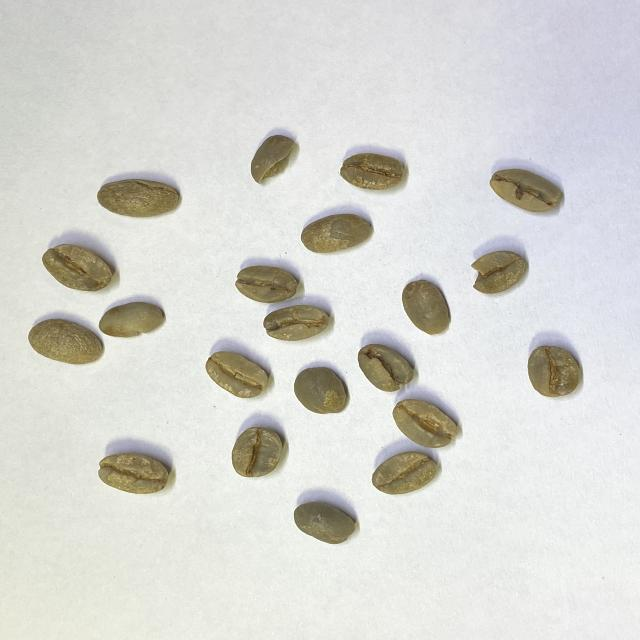bad: (488, 167, 564, 214), (392, 396, 460, 448), (355, 342, 417, 392), (468, 252, 530, 294), (263, 304, 331, 342), (98, 302, 168, 338)
good: (40, 242, 116, 294), (27, 318, 102, 366), (98, 178, 180, 220), (204, 350, 268, 400), (370, 451, 440, 496), (97, 452, 169, 495), (292, 498, 356, 546), (526, 344, 582, 398), (400, 278, 452, 336), (300, 214, 374, 254), (230, 425, 284, 479), (292, 364, 348, 416), (248, 134, 300, 186), (339, 152, 406, 190), (236, 265, 300, 304)
